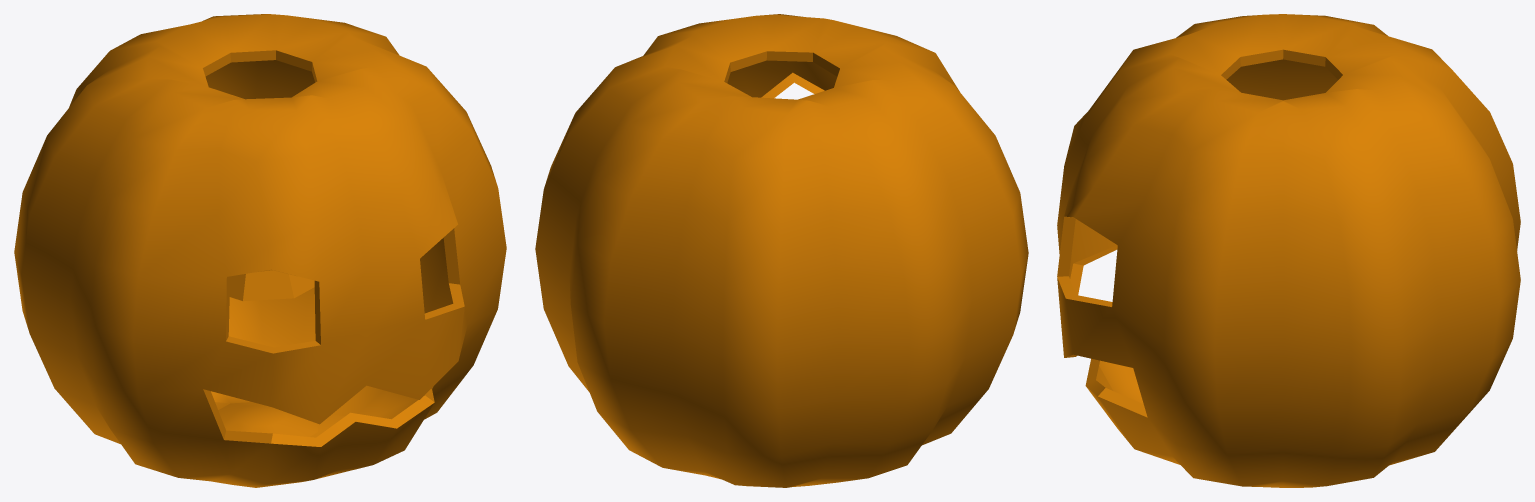
Rendered from Pumpkinv3.fbx.
The picture shows the model from 3 angles, left to right: view 1: azimuth 30°, elevation 25°; view 2: azimuth 150°, elevation 25°; view 3: azimuth 270°, elevation 25°; orthographic projection.
Parts seen in each view (by area): view 1: Pumpkin, Light; view 2: Pumpkin; view 3: Pumpkin.
Boxes of the visible parts, left/top/right/bottom form: Pumpkin: left=14, top=14, right=506, bottom=487; Light: left=229, top=270, right=314, bottom=301; Pumpkin: left=535, top=14, right=1028, bottom=487; Pumpkin: left=1057, top=14, right=1520, bottom=487.
Size of the model in its own units: 34.14 by 30.7 by 33.32.
